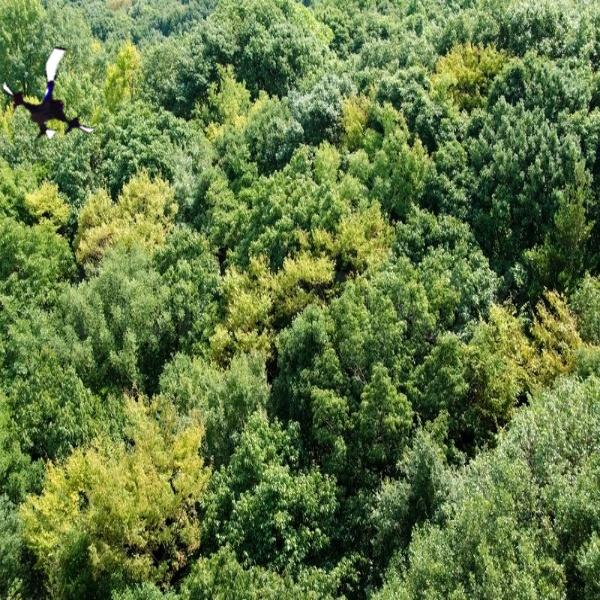drone: (2, 41, 115, 154)
